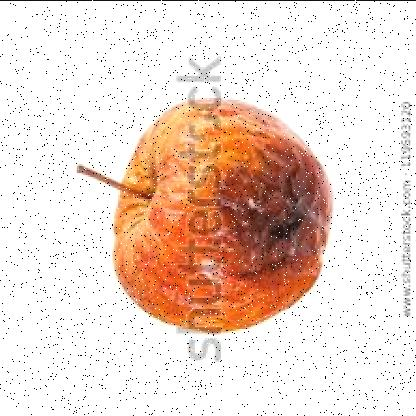damaged_apple: (107, 92, 341, 332)
